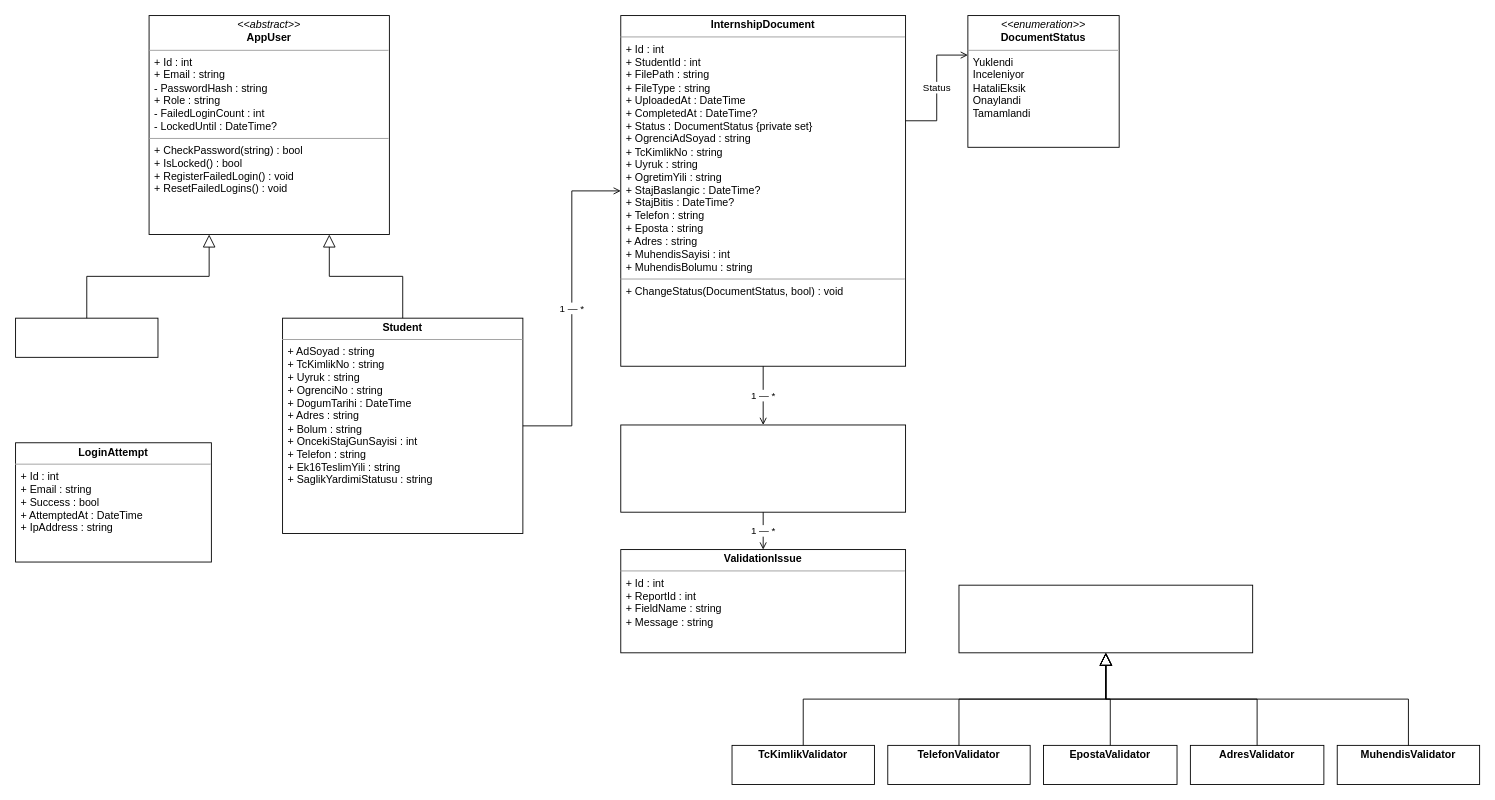
The diagram is 1495 pixels wide and 800 high, and some of its shapes have lost their labels. The shapes that lost their labels are listed below. From the top down, each one's centre as x and y in pixels, then its label:
At point (86, 337): "AdminUser".
At point (763, 468): "ValidationReport + Id : int + DocumentId : int + CreatedAt : DateTime".
At point (1105, 618): "<<abstract>> BaseValidator + Validate(ValidationContext) : ValidationResult".
